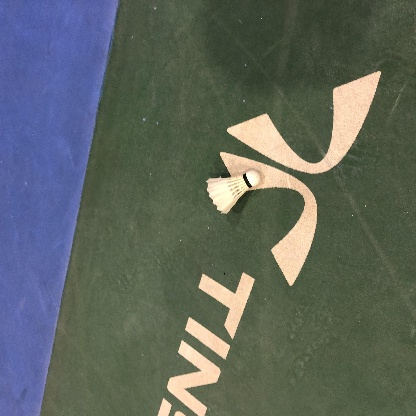ball_single: (206, 170, 261, 215)
